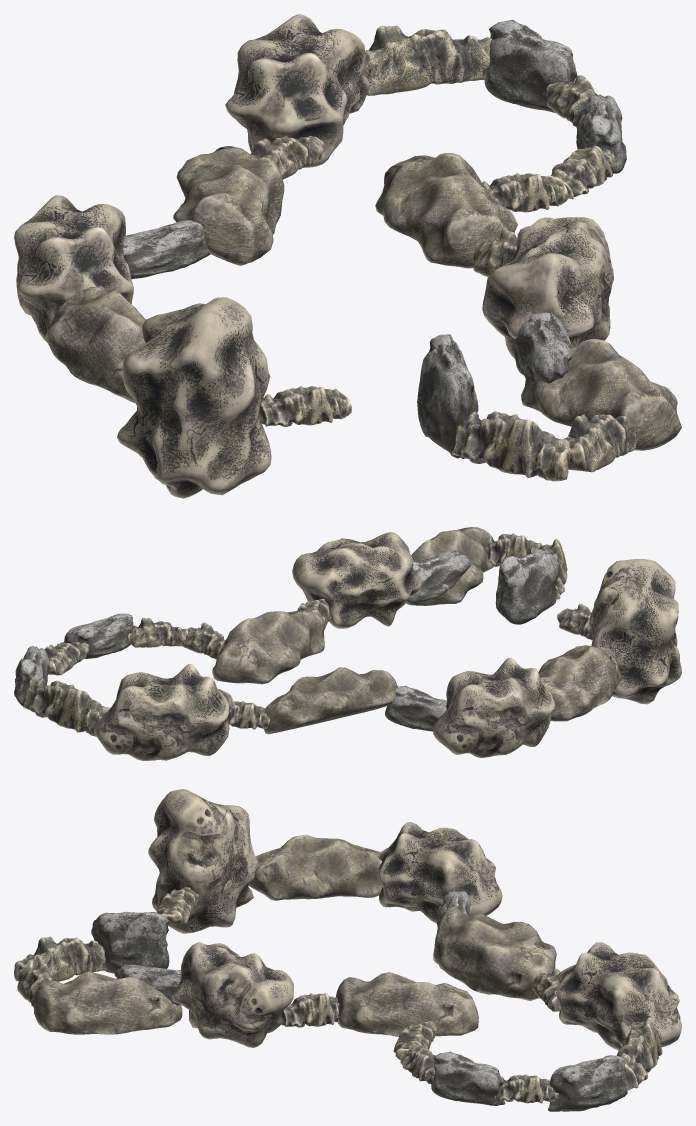
File: Rocks.fbx
The picture shows the model from 3 angles, top to bottom: view 1: azimuth 30°, elevation 25°; view 2: azimuth 150°, elevation 25°; view 3: azimuth 270°, elevation 25°; orthographic projection. The views are drawn at different scales.
Visible parts, largest first — view 1: rock6_LOD0.001, rock6_LOD0.003, rock6_LOD0.002, rock6_LOD0, rock5_LOD0.001, rock5_LOD0.002, rock5_LOD0.003, rock5_LOD0, rock3_LOD0.008, rock1_LOD0.004, rock3_LOD0.003, rock1_LOD0.002 (+10 smaller); view 2: rock6_LOD0.001, rock6_LOD0.003, rock6_LOD0, rock6_LOD0.002, rock5_LOD0.001, rock5_LOD0.002, rock5_LOD0, rock1_LOD0.002, rock5_LOD0.003, rock3_LOD0.008, rock1_LOD0.003, rock1_LOD0 (+10 smaller); view 3: rock6_LOD0.001, rock6_LOD0.003, rock6_LOD0.002, rock6_LOD0, rock5_LOD0.002, rock5_LOD0.003, rock5_LOD0.001, rock5_LOD0, rock1_LOD0.002, rock1_LOD0.004, rock1_LOD0.003, rock3_LOD0.003 (+10 smaller).
Part boxes in pixels (x1,y1,x2,y2): rock6_LOD0.001: (117, 297, 271, 498); rock6_LOD0.003: (225, 14, 369, 167); rock6_LOD0.002: (482, 217, 613, 358); rock6_LOD0: (14, 195, 133, 341); rock5_LOD0.001: (375, 153, 517, 268); rock5_LOD0.002: (173, 146, 284, 265); rock5_LOD0.003: (521, 339, 681, 450); rock5_LOD0: (44, 285, 145, 403); rock3_LOD0.008: (363, 25, 491, 95); rock1_LOD0.004: (484, 20, 577, 112); rock3_LOD0.003: (452, 411, 570, 481); rock1_LOD0.002: (417, 334, 478, 458); rock6_LOD0.001: (589, 559, 681, 704); rock6_LOD0.003: (94, 664, 232, 760); rock6_LOD0: (433, 658, 554, 757); rock6_LOD0.002: (292, 532, 421, 628); rock5_LOD0.001: (212, 610, 324, 684); rock5_LOD0.002: (264, 667, 397, 734); rock5_LOD0: (538, 645, 622, 721); rock1_LOD0.002: (495, 549, 558, 624); rock5_LOD0.003: (405, 527, 493, 605); rock3_LOD0.008: (23, 677, 109, 736); rock1_LOD0.003: (64, 613, 134, 658); rock1_LOD0: (407, 550, 470, 602); rock6_LOD0.001: (148, 789, 257, 933); rock6_LOD0.003: (555, 942, 681, 1050); rock6_LOD0.002: (172, 942, 293, 1047); rock6_LOD0: (377, 822, 502, 923); rock5_LOD0.002: (433, 906, 556, 1000); rock5_LOD0.003: (34, 971, 182, 1034); rock5_LOD0.001: (335, 972, 478, 1036); rock5_LOD0: (248, 834, 382, 900); rock1_LOD0.002: (91, 911, 169, 973); rock1_LOD0.004: (548, 1055, 627, 1111); rock1_LOD0.003: (431, 1051, 505, 1105); rock3_LOD0.003: (14, 936, 107, 981).
Size of what is drawn, in the model's own units: 12146 by 3250 by 13954.
4 materials, 4 textured.
